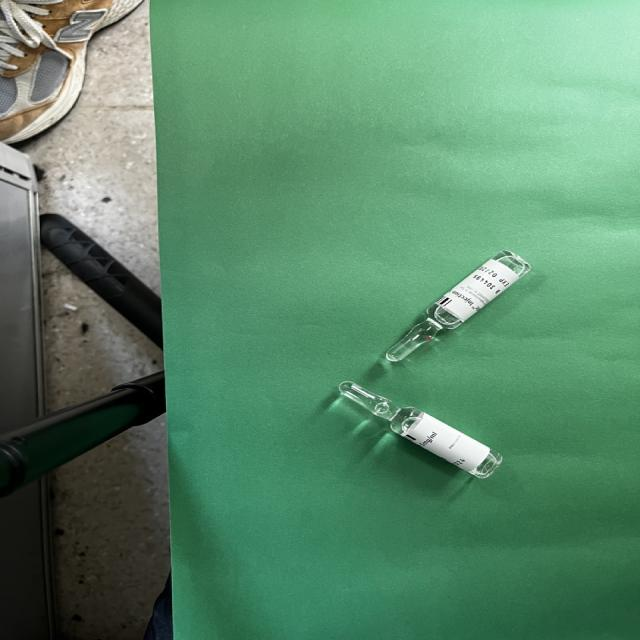Ampoules: (385, 251, 529, 362), (339, 381, 501, 478)
